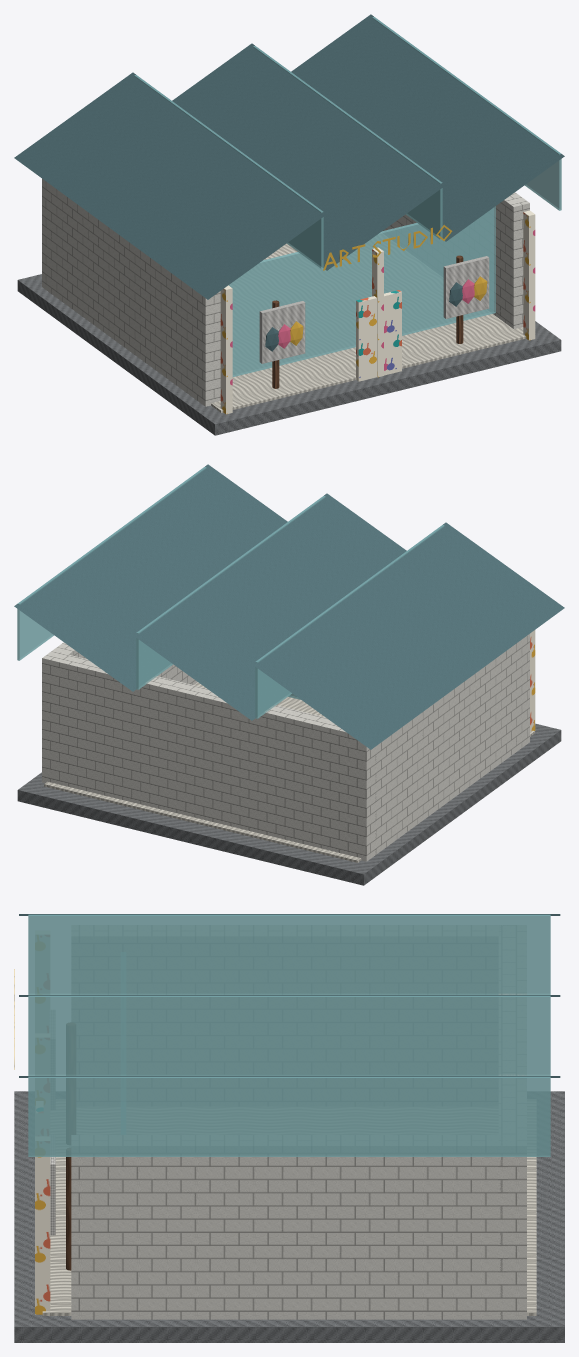
The model's file is studio_art.glb.
The picture shows the model from 3 angles, top to bottom: view 1: azimuth 30°, elevation 25°; view 2: azimuth 150°, elevation 25°; view 3: azimuth 270°, elevation 25°; orthographic projection. The views are drawn at different scales.
Visible parts, largest first — view 1: sawtooth_roof, sawtooth_roof.002, sawtooth_roof.001, window_back, side_wall, foundation, floor, side_wall.001, door, canvas, canvas.001, clerestory.002 (+7 smaller); view 2: rear_wall, sawtooth_roof, sawtooth_roof.002, sawtooth_roof.001, side_wall, foundation, floor, clerestory.002, clerestory, clerestory.001, side_wall.001, front_post; view 3: side_wall.001, clerestory, clerestory.001, clerestory.002, foundation, rear_wall, floor, front_post.002, easel.001, sawtooth_roof, sawtooth_roof.001, sawtooth_roof.002.
Boxes of the visible parts, x1,y1,x2,y2 form: sawtooth_roof: (14, 72, 326, 299); sawtooth_roof.002: (291, 14, 564, 241); sawtooth_roof.001: (172, 43, 445, 270); window_back: (228, 206, 495, 376); side_wall: (52, 186, 220, 406); foundation: (17, 274, 561, 435); floor: (211, 243, 526, 412); side_wall.001: (382, 192, 529, 329); door: (356, 290, 401, 381); canvas: (259, 301, 305, 363); canvas.001: (443, 256, 489, 318); clerestory.002: (372, 17, 561, 210); rear_wall: (42, 650, 376, 861); sawtooth_roof: (252, 522, 564, 749); sawtooth_roof.002: (14, 464, 287, 691); sawtooth_roof.001: (133, 493, 406, 720); side_wall: (373, 634, 529, 856); foundation: (17, 723, 561, 885); floor: (44, 682, 534, 862); clerestory.002: (17, 467, 206, 660); clerestory: (255, 525, 444, 718); clerestory.001: (136, 496, 325, 689); side_wall.001: (53, 642, 197, 684); front_post: (530, 630, 535, 732); side_wall.001: (71, 1157, 507, 1319); clerestory: (28, 914, 550, 994); clerestory.001: (28, 995, 550, 1075); clerestory.002: (28, 1076, 550, 1156); foundation: (14, 1091, 564, 1342); rear_wall: (498, 993, 526, 1319); floor: (42, 1157, 536, 1315); front_post.002: (35, 1157, 50, 1314); easel.001: (66, 1157, 71, 1270); sawtooth_roof: (19, 914, 560, 915); sawtooth_roof.001: (19, 995, 560, 996); sawtooth_roof.002: (19, 1076, 560, 1077).
Size of the model in its own units: 6.6 by 3.4 by 6.32.
10 materials, 7 textured.
